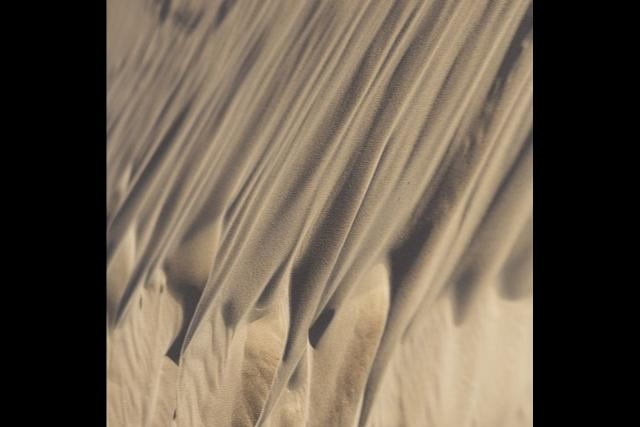Non_Gorille: (116, 0, 533, 427)
